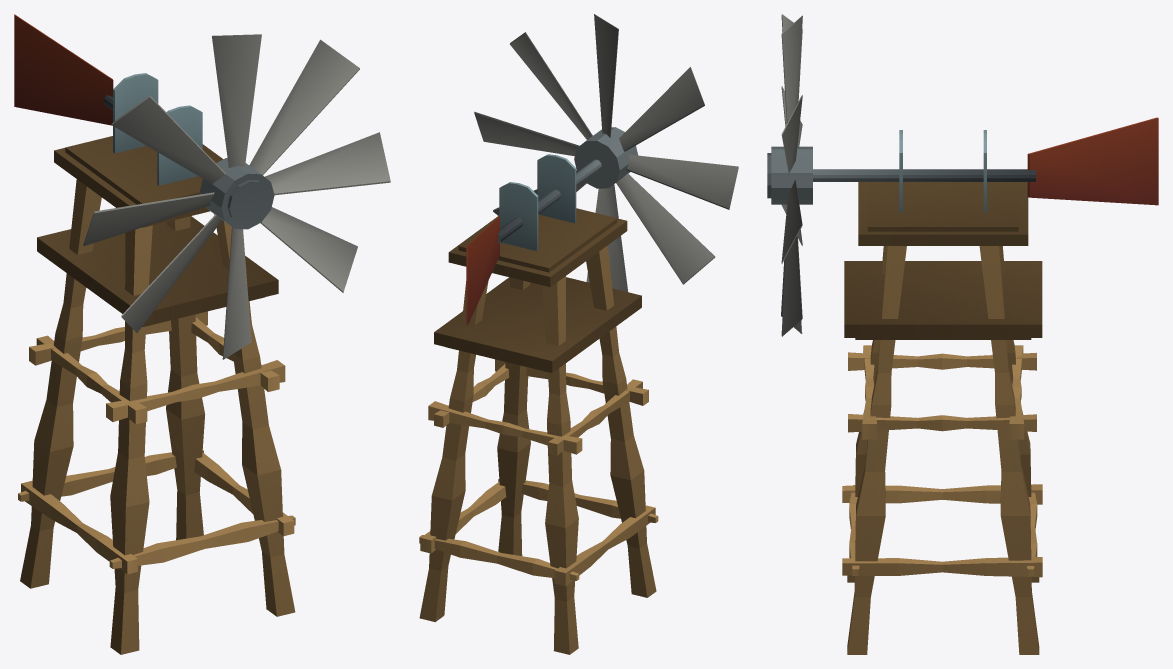
Rendered from eolienne.fbx.
The picture shows the model from 3 angles, left to right: view 1: azimuth 30°, elevation 25°; view 2: azimuth 150°, elevation 25°; view 3: azimuth 270°, elevation 25°; orthographic projection. The views are drawn at different scales.
Parts seen in each view (by area): view 1: m_JS_Eolienne; view 2: m_JS_Eolienne; view 3: m_JS_Eolienne.
Boxes of the visible parts, x1,y1,x2,y2 form: m_JS_Eolienne: [14, 14, 390, 654]; m_JS_Eolienne: [419, 14, 738, 654]; m_JS_Eolienne: [767, 14, 1158, 654].
Bounding box in the file's own units: 13.6 × 27.18 × 16.36.
